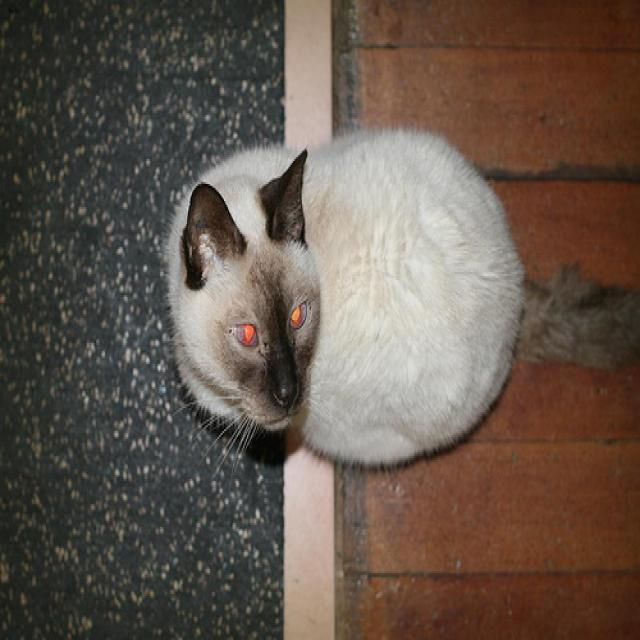Siamese: (179, 148, 319, 428)
